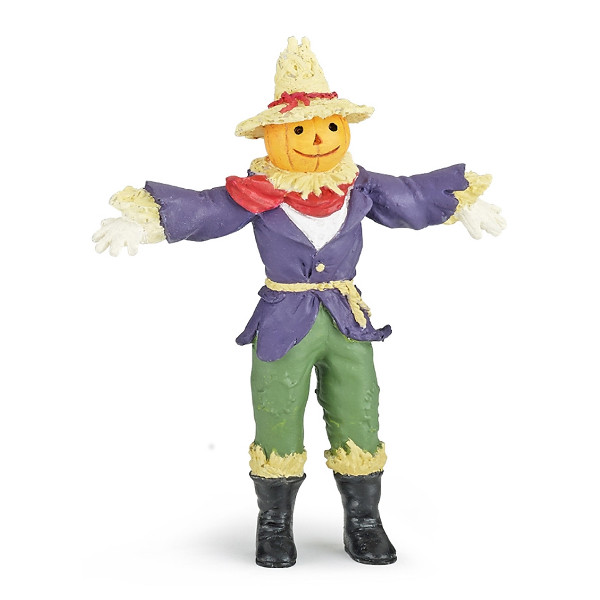person-like: (89, 27, 511, 576)
